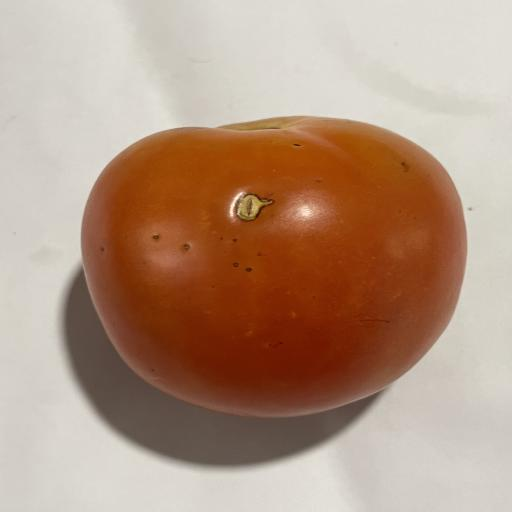ripe: (81, 116, 466, 417)
